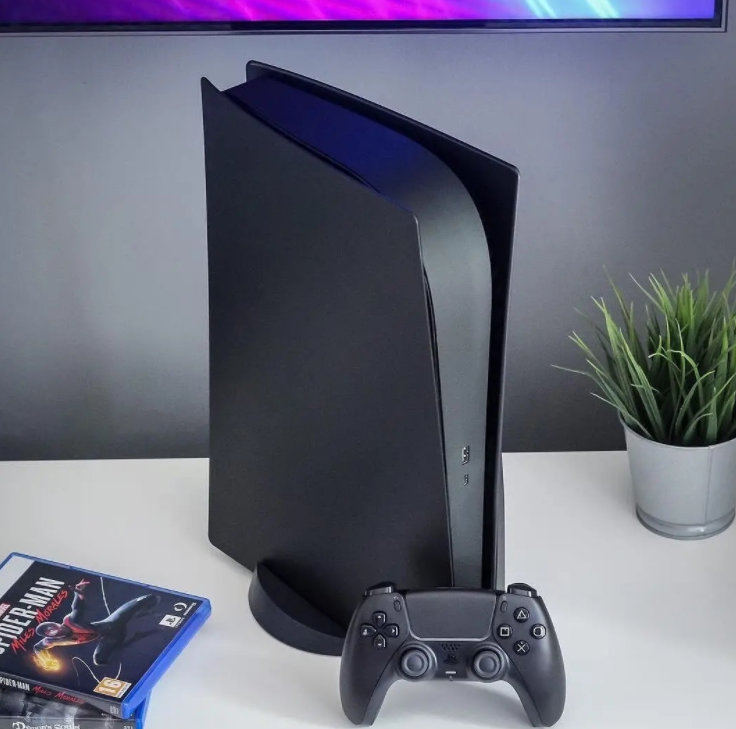gamingconsole: (339, 584, 565, 726)
